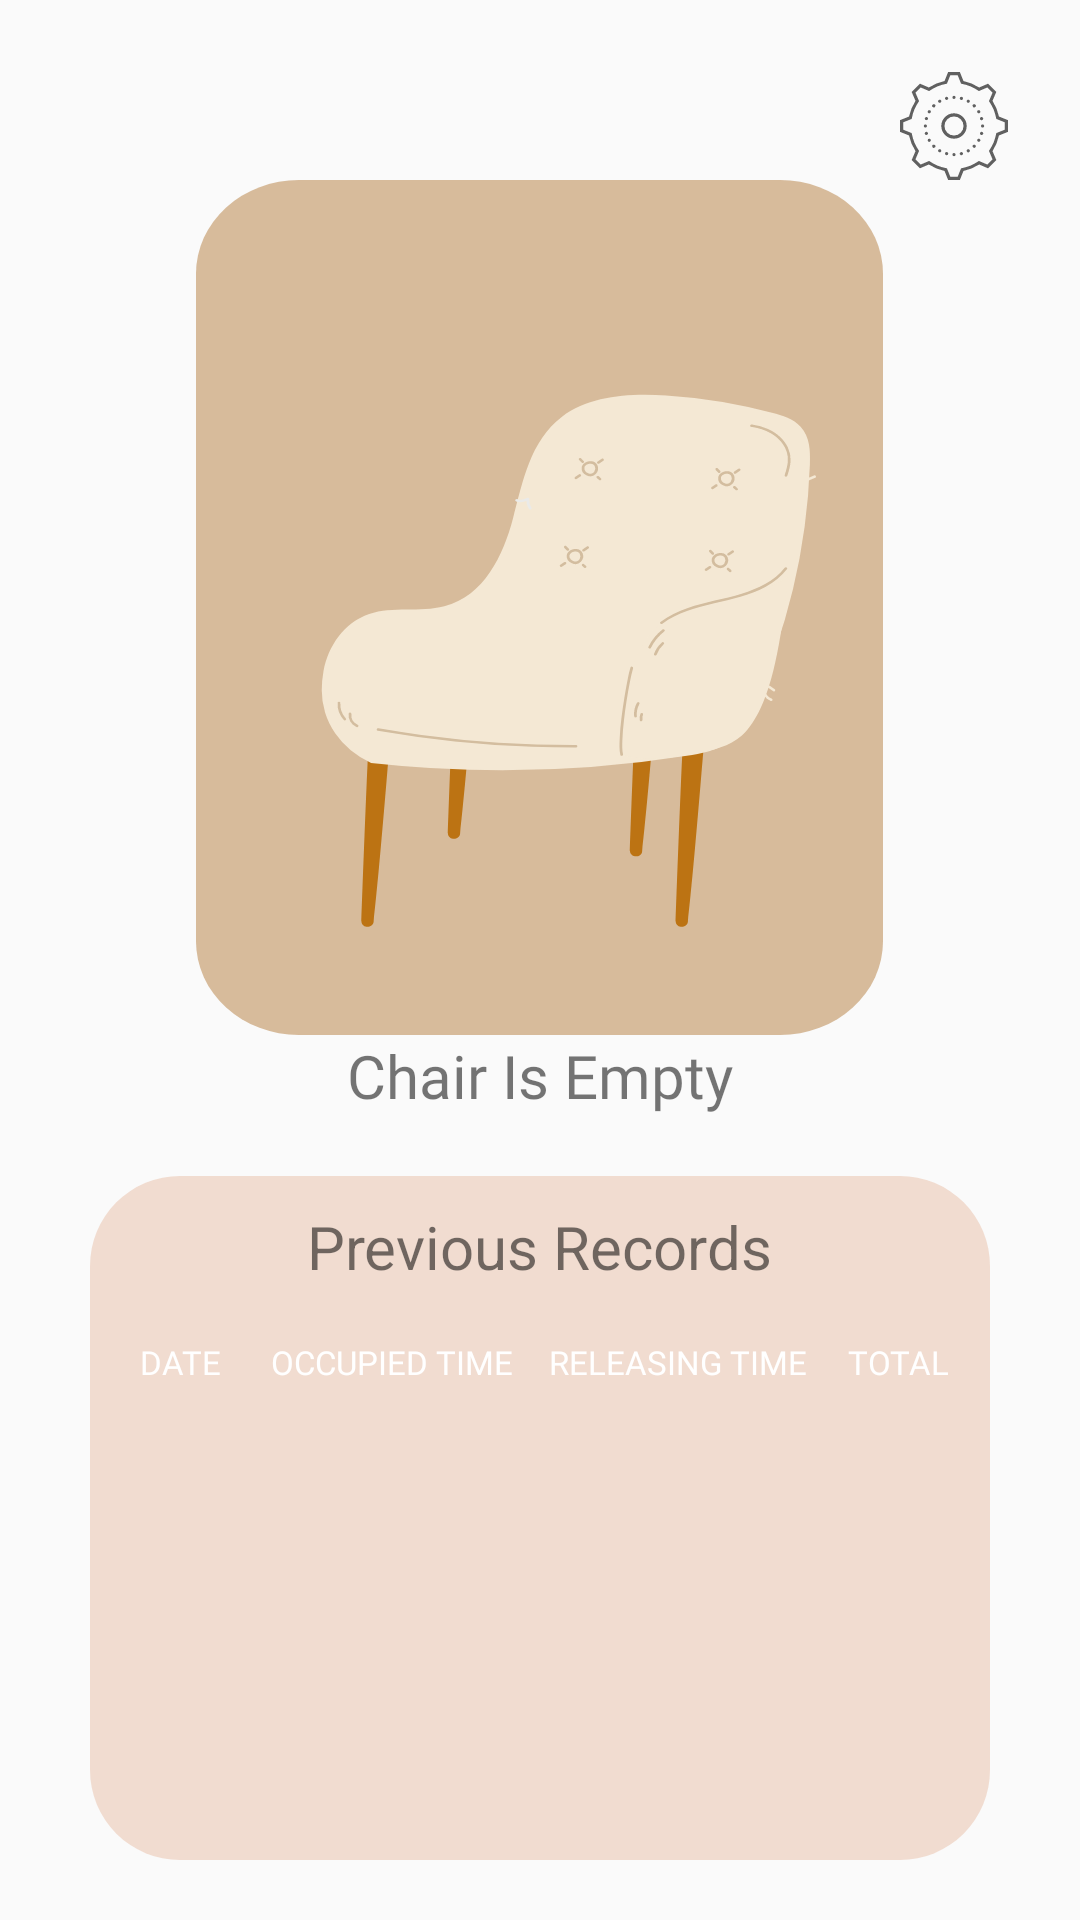

Icons on this 1080×1920 Android screen, each with its box as BBox(x1, y1, x2, y2):
settings: BBox(900, 72, 1008, 180)
